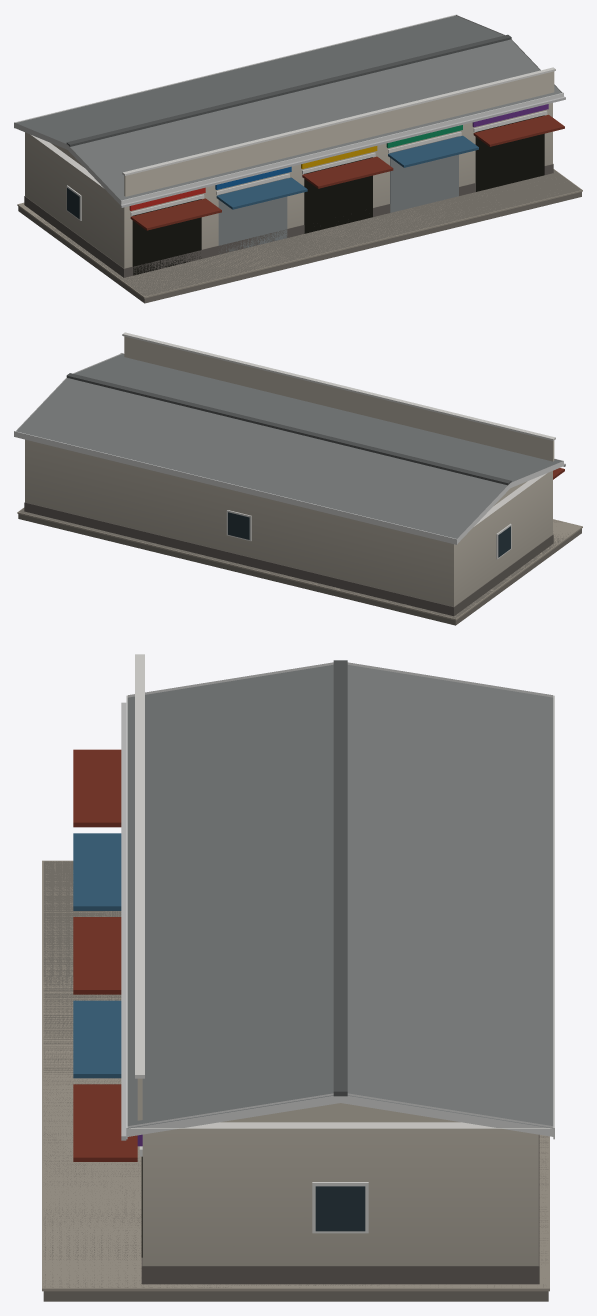
Rendered from ns_shops1_lod1.glb.
3 renders of one model, top to bottom at view 1: azimuth 30°, elevation 25°; view 2: azimuth 150°, elevation 25°; view 3: azimuth 270°, elevation 25°, orthographic. The views are drawn at different scales.
Visible parts, largest first — view 1: ns_shops1_lod1; view 2: ns_shops1_lod1; view 3: ns_shops1_lod1.
Part boxes in pixels (x1=…): ns_shops1_lod1: x1=14, y1=14, x2=582, y2=303; ns_shops1_lod1: x1=14, y1=332, x2=582, y2=625; ns_shops1_lod1: x1=42, y1=654, x2=554, y2=1301.
Bounding box in the file's own units: 20.72 × 4.98 × 10.36.
